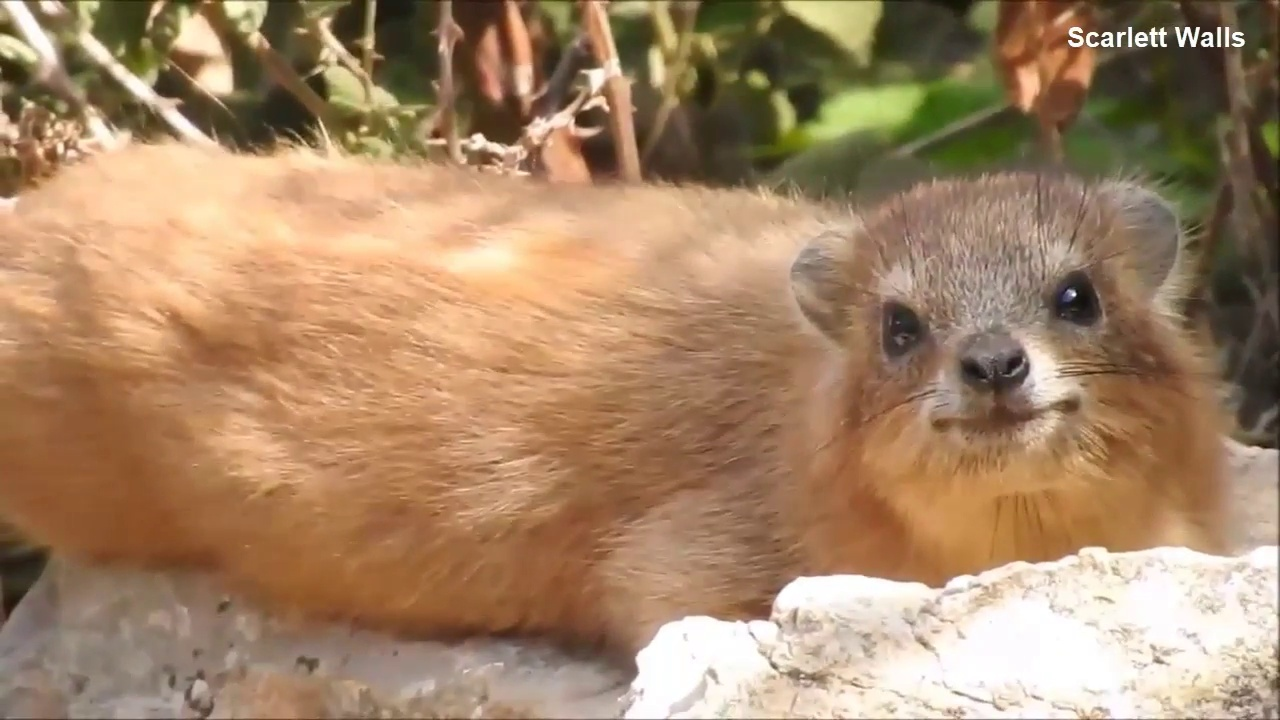Rock Hyrex: (1, 162, 1241, 666)
